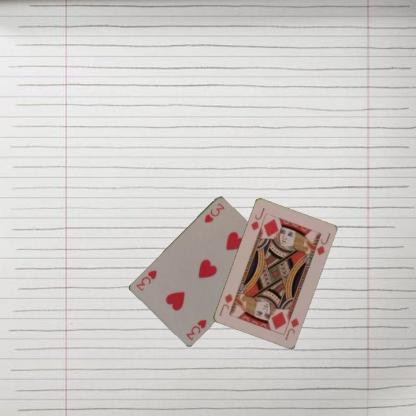3h: (183, 316, 208, 341), (200, 200, 226, 224)
Jd: (248, 205, 266, 232), (282, 316, 300, 342)
